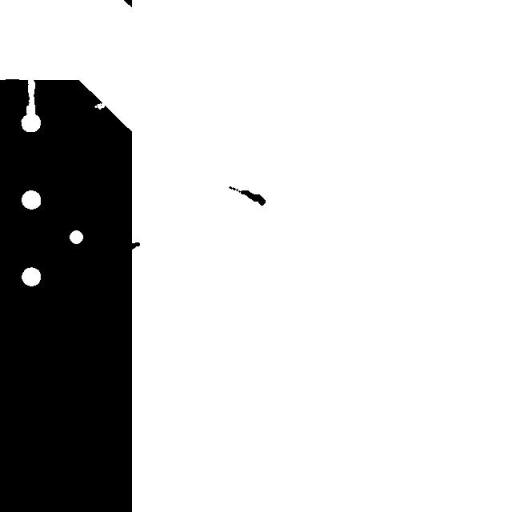copper: (221, 178, 273, 213)
mousebite: (86, 95, 113, 117)
open: (18, 70, 42, 124)
pin-hole: (62, 222, 90, 252)
spur: (119, 234, 147, 258)
